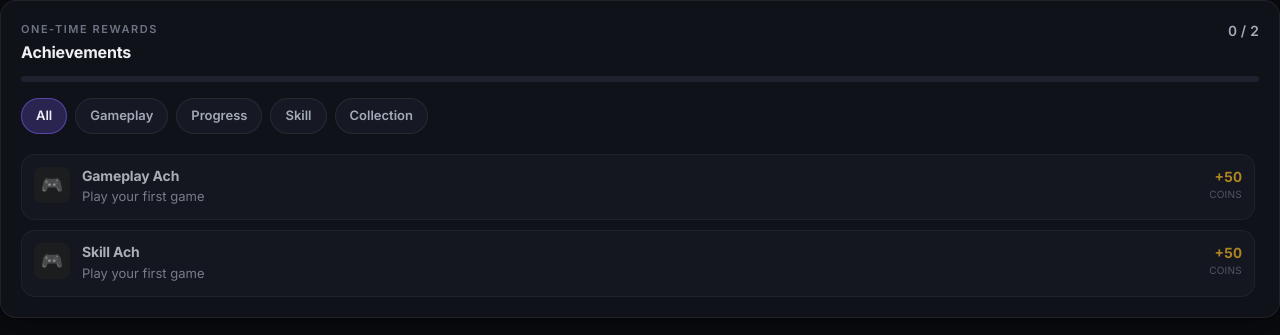
Test case: AchievementPanel › filters achievements by category when a filter button is clicked
Check: the heading "Gameplay Ach" is shown, box [82,166,179,184]
Check: the heading "Skill Ach" is shown, box [82,243,140,260]
Click the button "Skill".
click(298, 116)  # box [270,98,326,134]
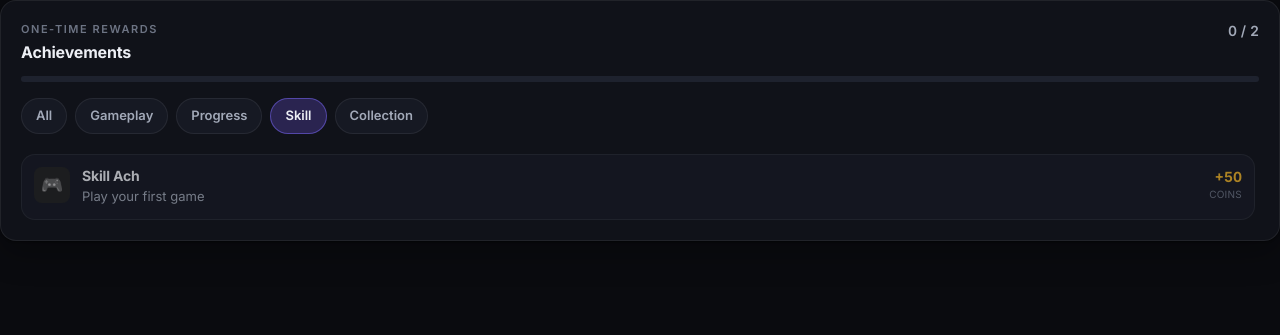
Check: the heading "Skill Ach" is shown, box [82,166,140,184]
Check: the heading "Gameplay Ach" is gone
